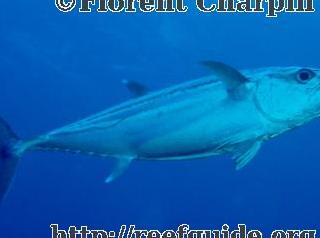Scombridae -Tunas-: (0, 59, 320, 203)
